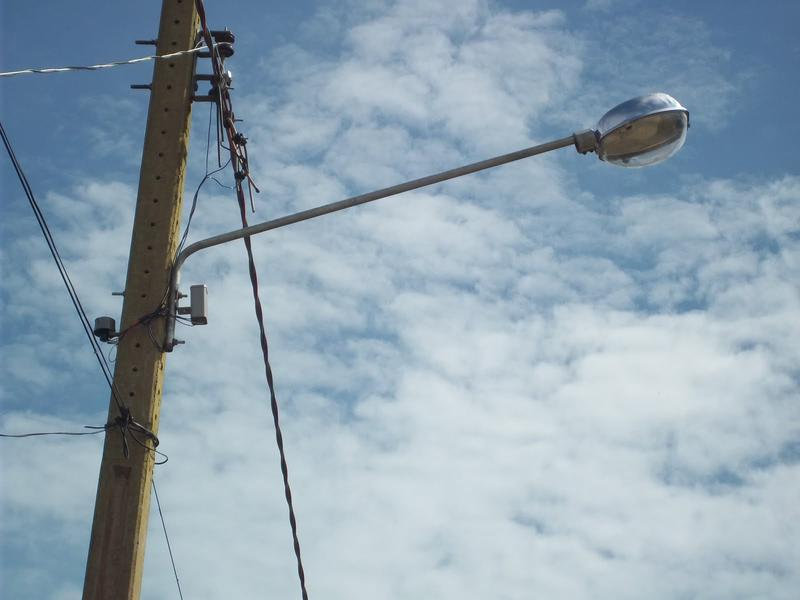IP: (170, 87, 707, 261)
